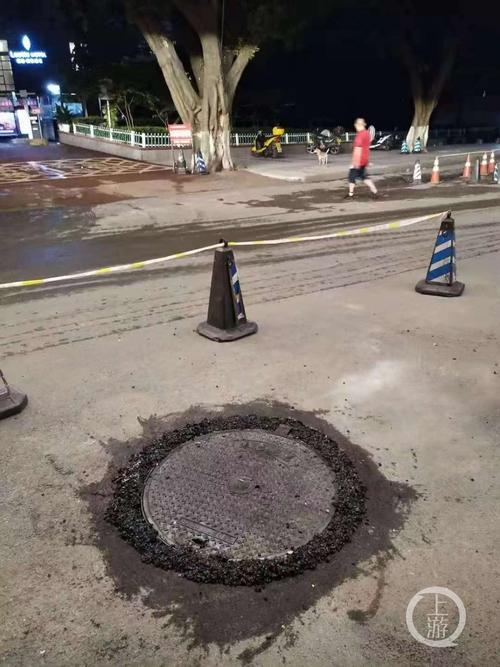good: (83, 391, 402, 633)
